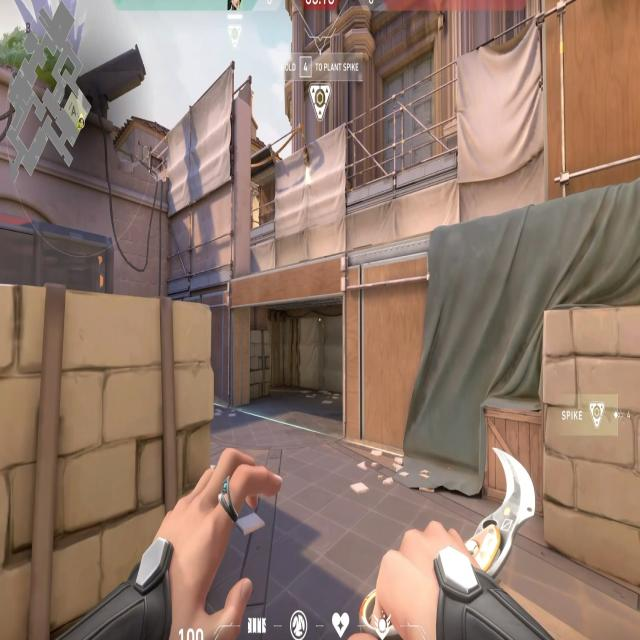A_Heaven_Wall: (158, 59, 255, 290)
A_Hell: (231, 253, 354, 442)
